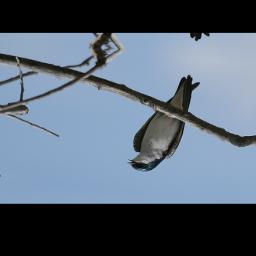Swallow: (124, 69, 201, 176)
